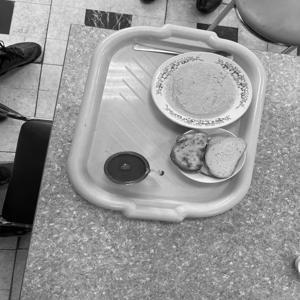bread: (199, 129, 252, 182)
cheese_sandwich: (174, 124, 206, 183)
coffee: (102, 148, 167, 190)
porridge: (163, 60, 246, 121)
